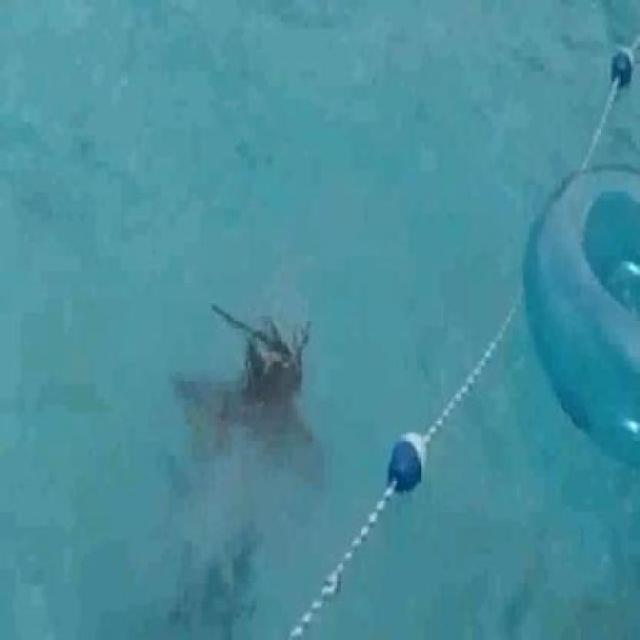drowning: (171, 278, 318, 578)
